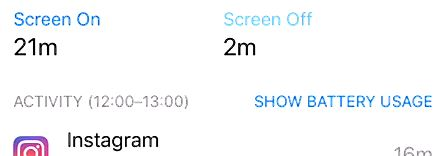activity: (6, 86, 198, 115)
